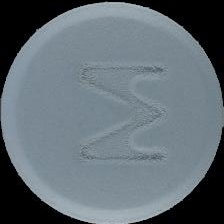52959-655: (0, 0, 224, 224)
